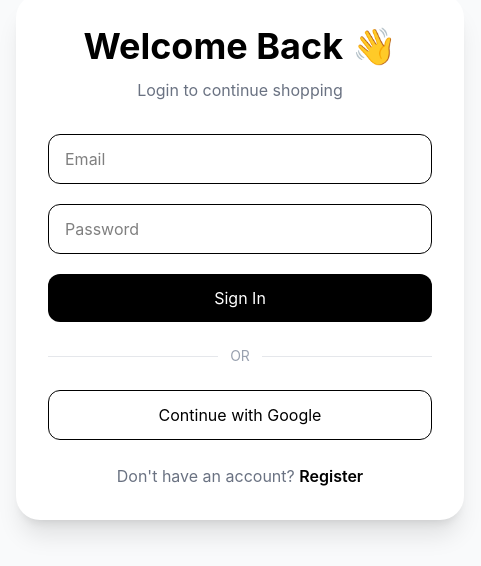
Test: Login › debe validar que el password tenga mínimo 6 caracteres
Type "test@example.com" into the field with placeholder "Email". click: coordinates (240, 159)
box: [48,134,432,184]
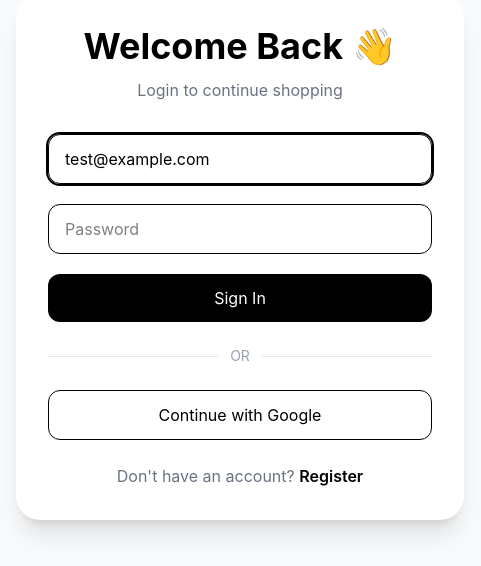
Type "123" into the password field with placeholder "Password". click: coordinates (240, 229)
box: [48,204,432,254]
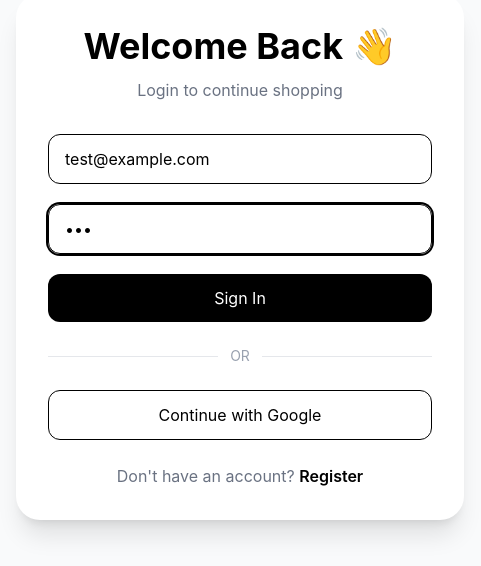
Click the button "Sign In". click: coordinates (240, 298)
box: [48,274,432,322]
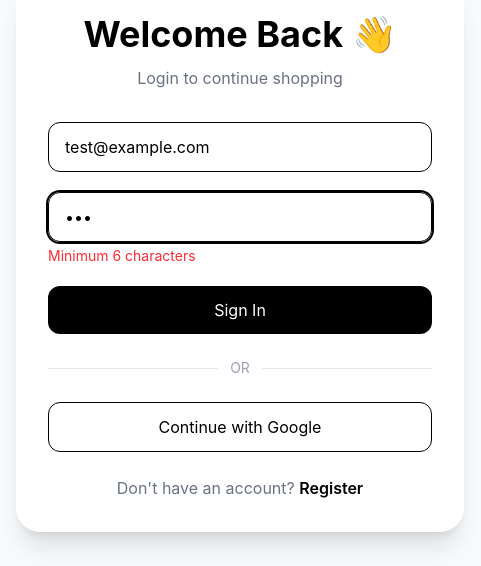
Now the text "Minimum 6 characters" is shown, box [48,247,196,264]
